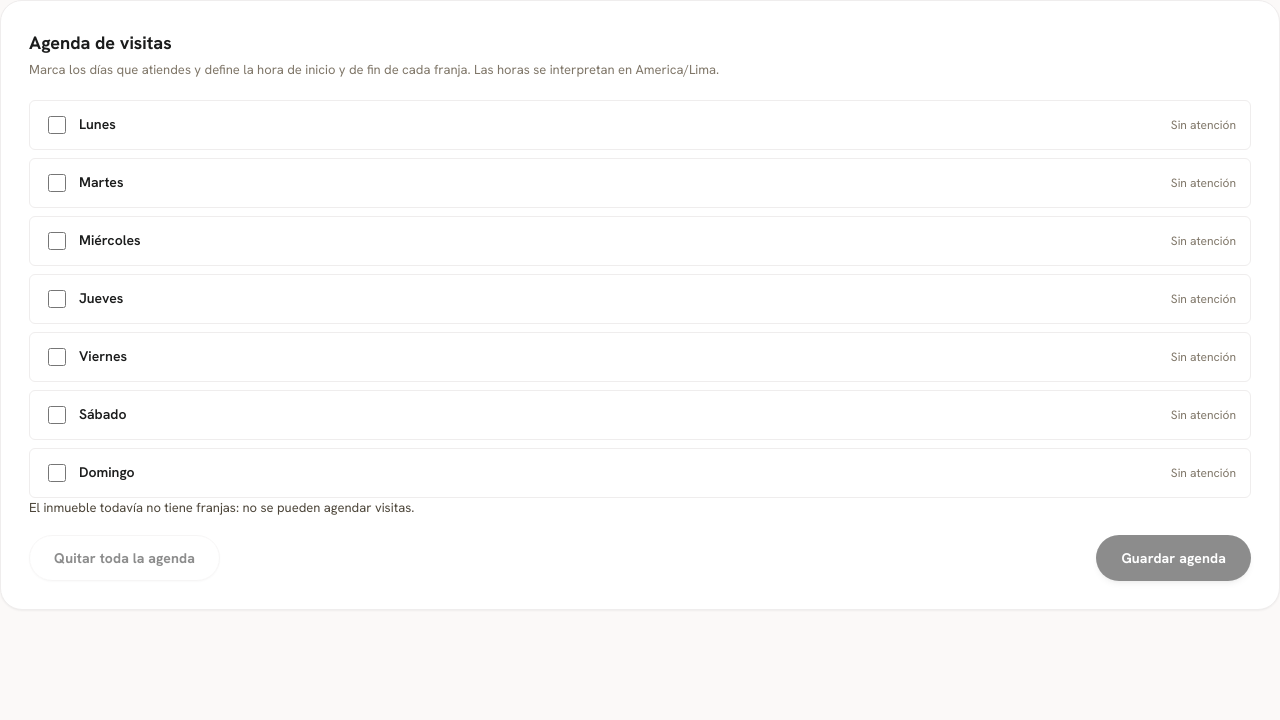
Test: ScheduleManager › Validación antes de enviar › bloquea el guardado ante una duración menor a 30 minutos
The width and height of the screenshot is (1280, 720).
Click the switch labelled "Jueves" at (57, 298), box [48, 290, 66, 308]
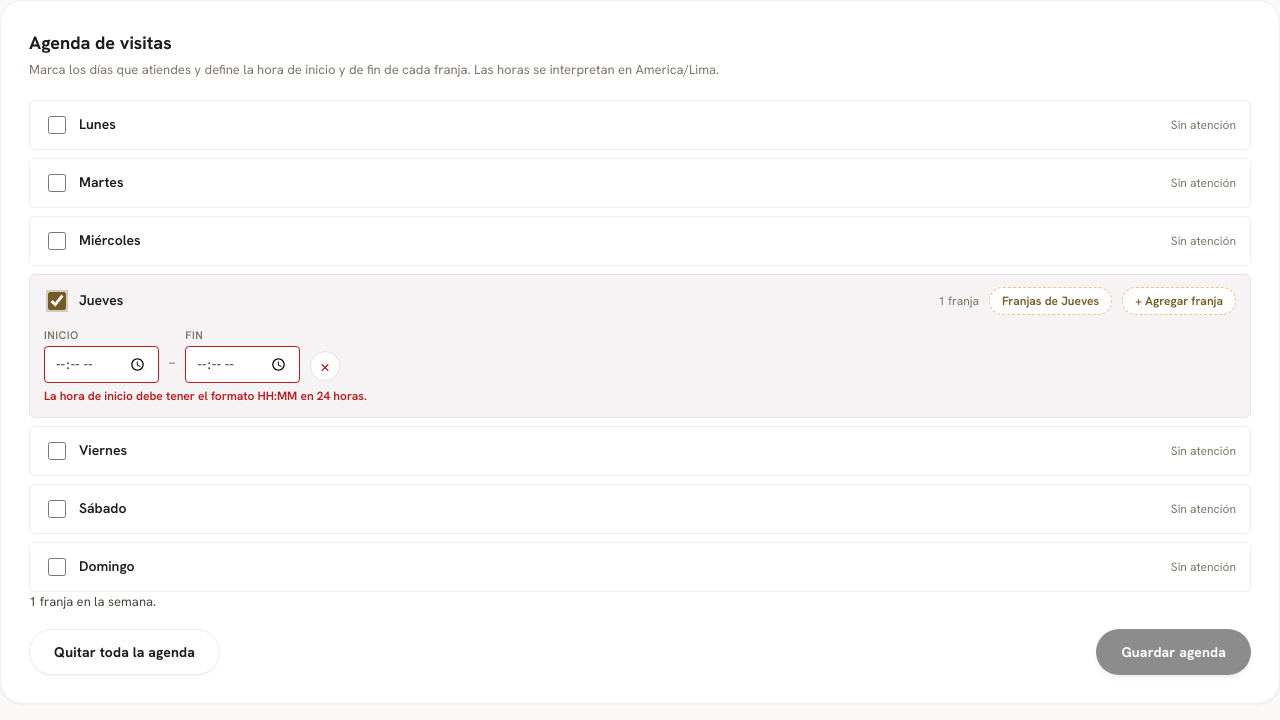
Type "09:00" into the time field named "Franja 1 de Jueves: hora de inicio" at (101, 364), box [44, 346, 159, 383]
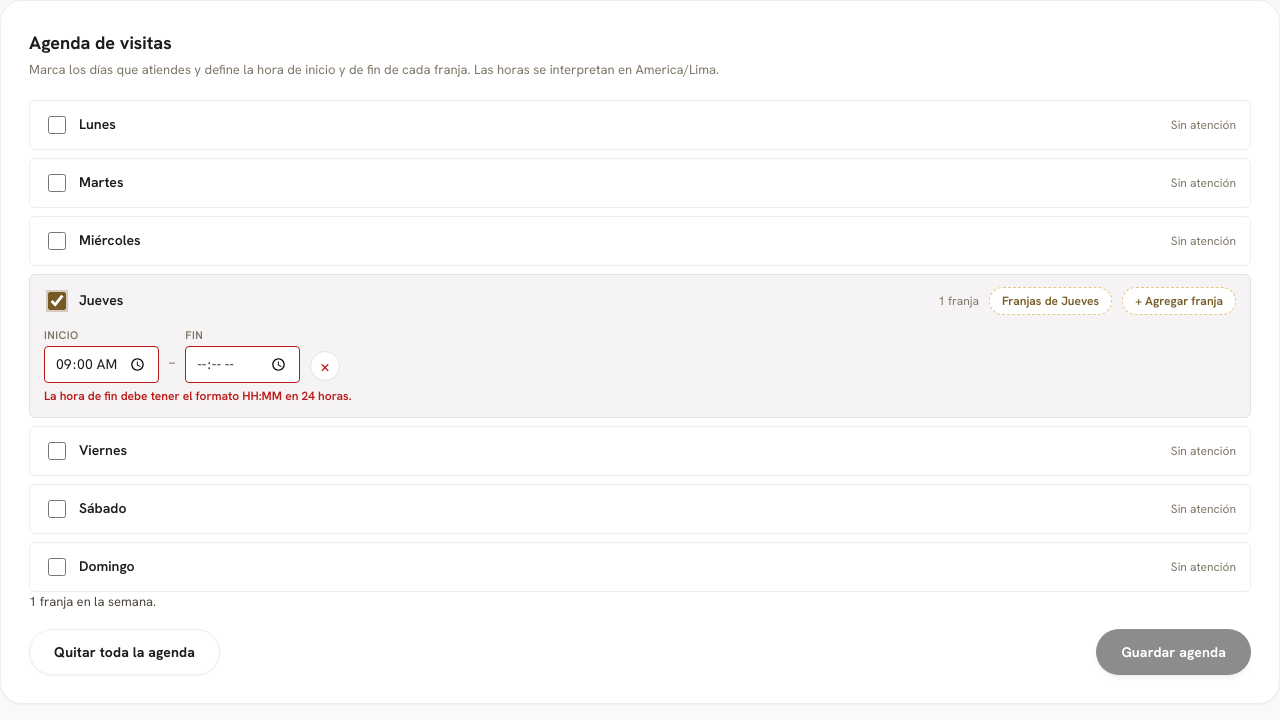
Type "09:15" into the time field named "Franja 1 de Jueves: hora de fin" at (243, 364), box [185, 346, 300, 383]
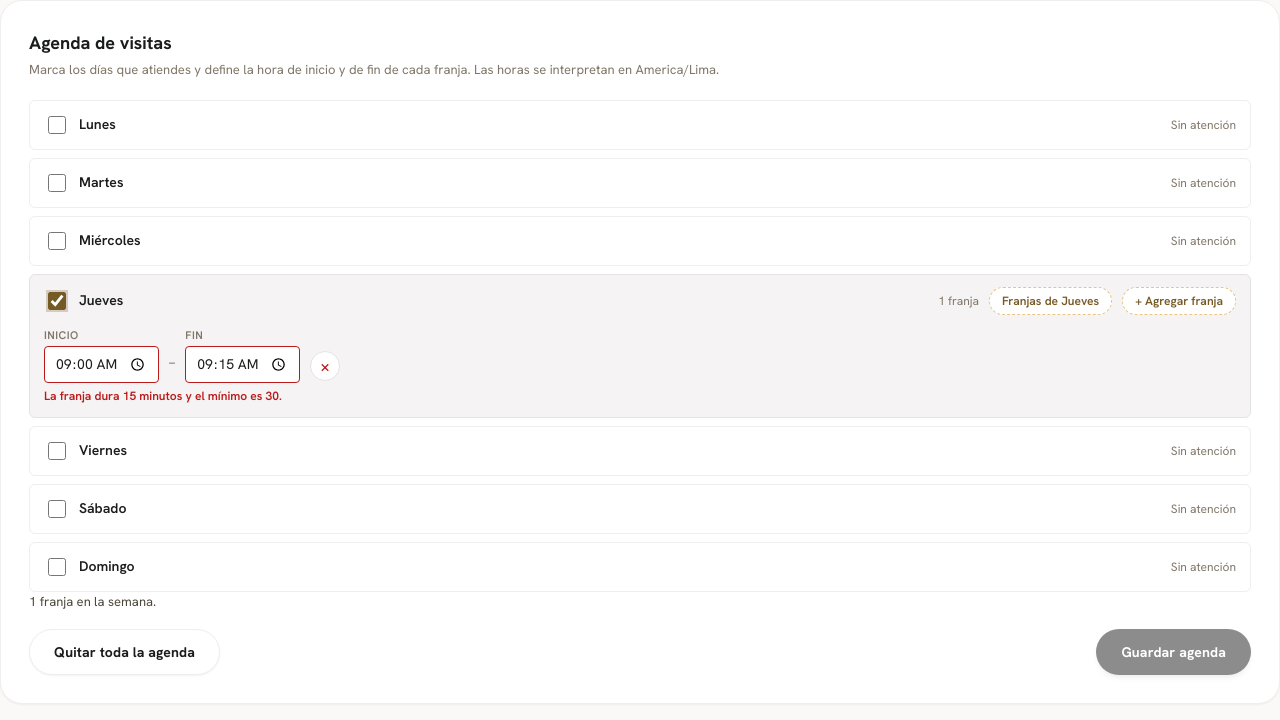
Expected: the button "Guardar agenda" is disabled, [1096, 629, 1251, 675]
Expected: the text "La franja dura 15 minutos y el mínimo es 30." is shown, [44, 388, 282, 404]
